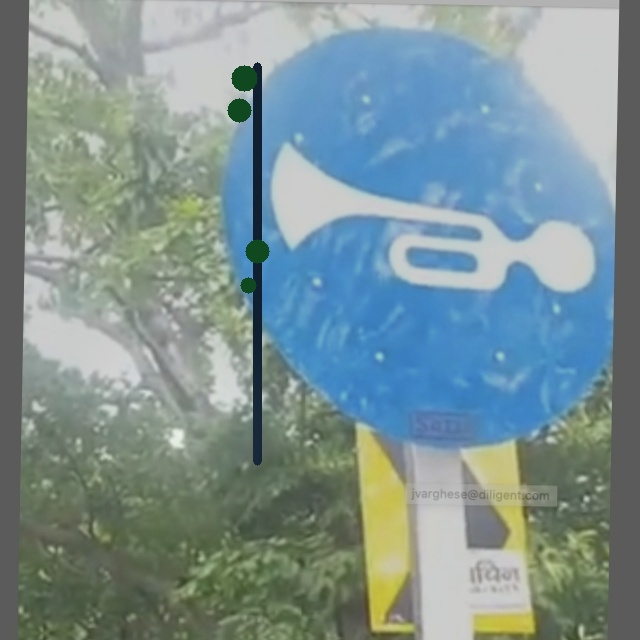Compulsory_Sound_Horn: (232, 70, 606, 401)
